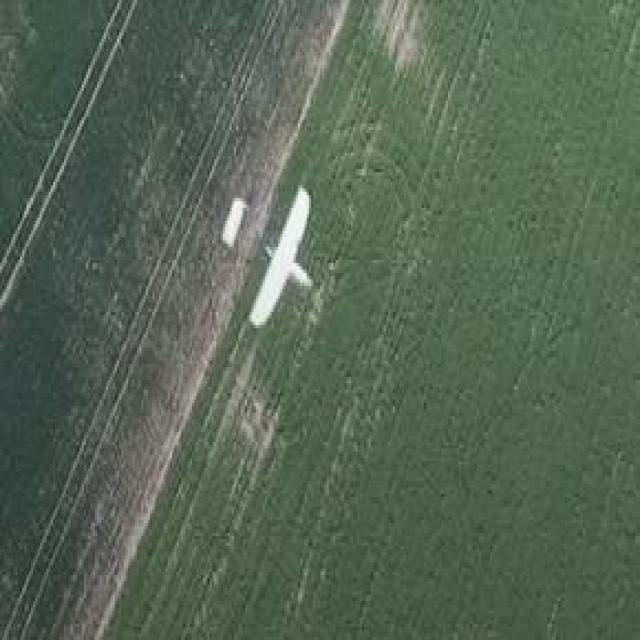iha: (256, 182, 282, 328)
